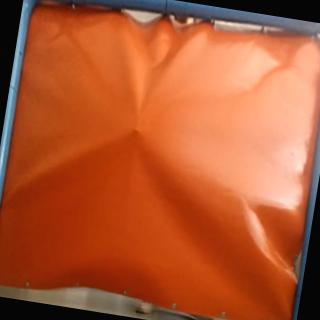Hit-hRxx: (127, 122, 145, 138)
